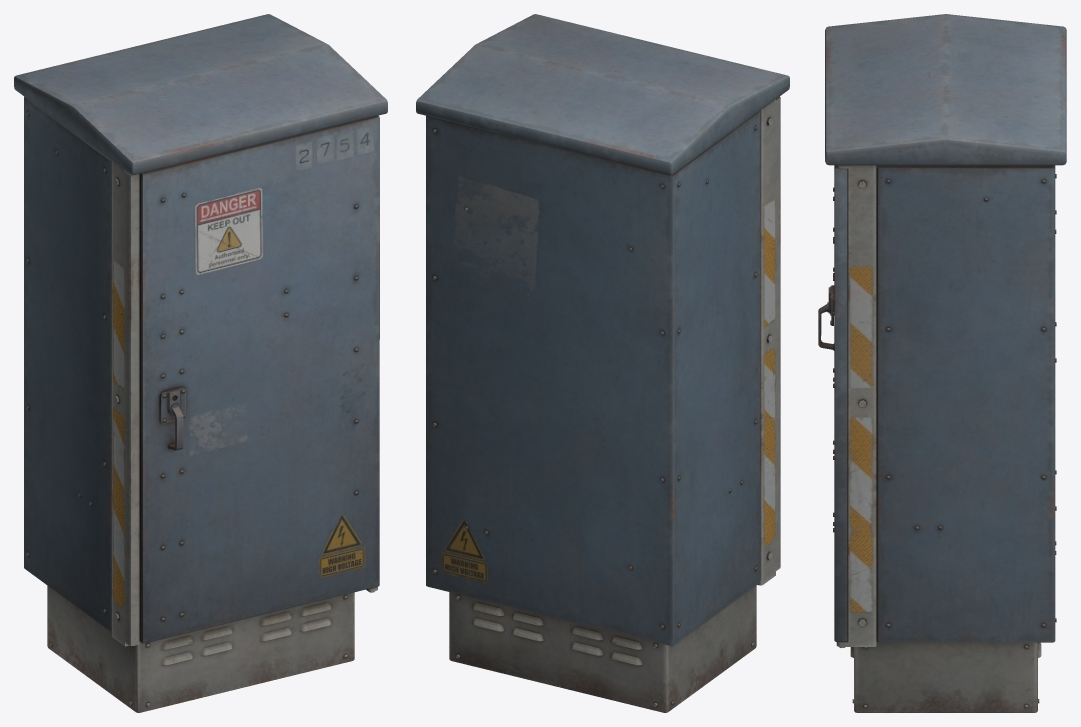
File: UtilityBox.obj
3 views of the same model, side by side, from view 1: azimuth 30°, elevation 25°; view 2: azimuth 150°, elevation 25°; view 3: azimuth 270°, elevation 25° (orthographic).
Visible parts, largest first — view 1: utility_box_01_box; view 2: utility_box_01_box; view 3: utility_box_01_box.
Boxes of the visible parts, x1,y1,x2,y2 form: utility_box_01_box: (14,14,387,712); utility_box_01_box: (416,14,789,712); utility_box_01_box: (818,14,1066,712).
Bounding box in the file's own units: 0.52 × 1.12 × 0.432.
Materials: 1 (1 with a texture image).
